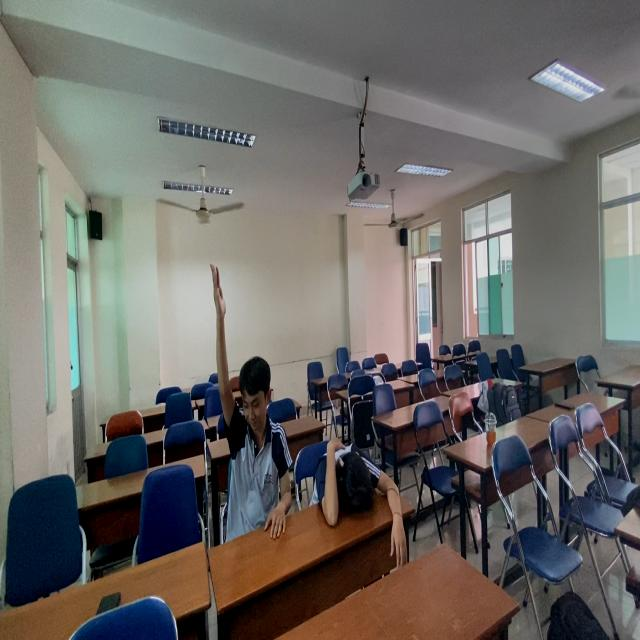raise_hand: (208, 262, 293, 545)
sleep: (313, 434, 403, 532)
